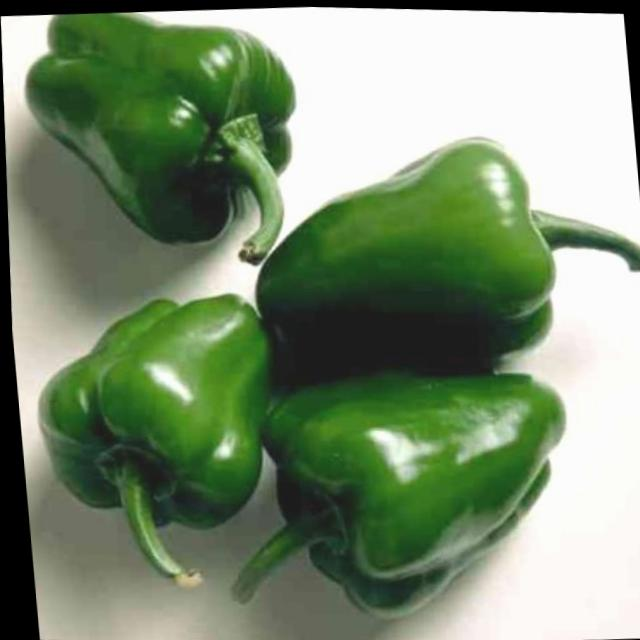Capsicum: (242, 117, 640, 381), (208, 361, 578, 629), (15, 2, 308, 277), (27, 284, 283, 598)
